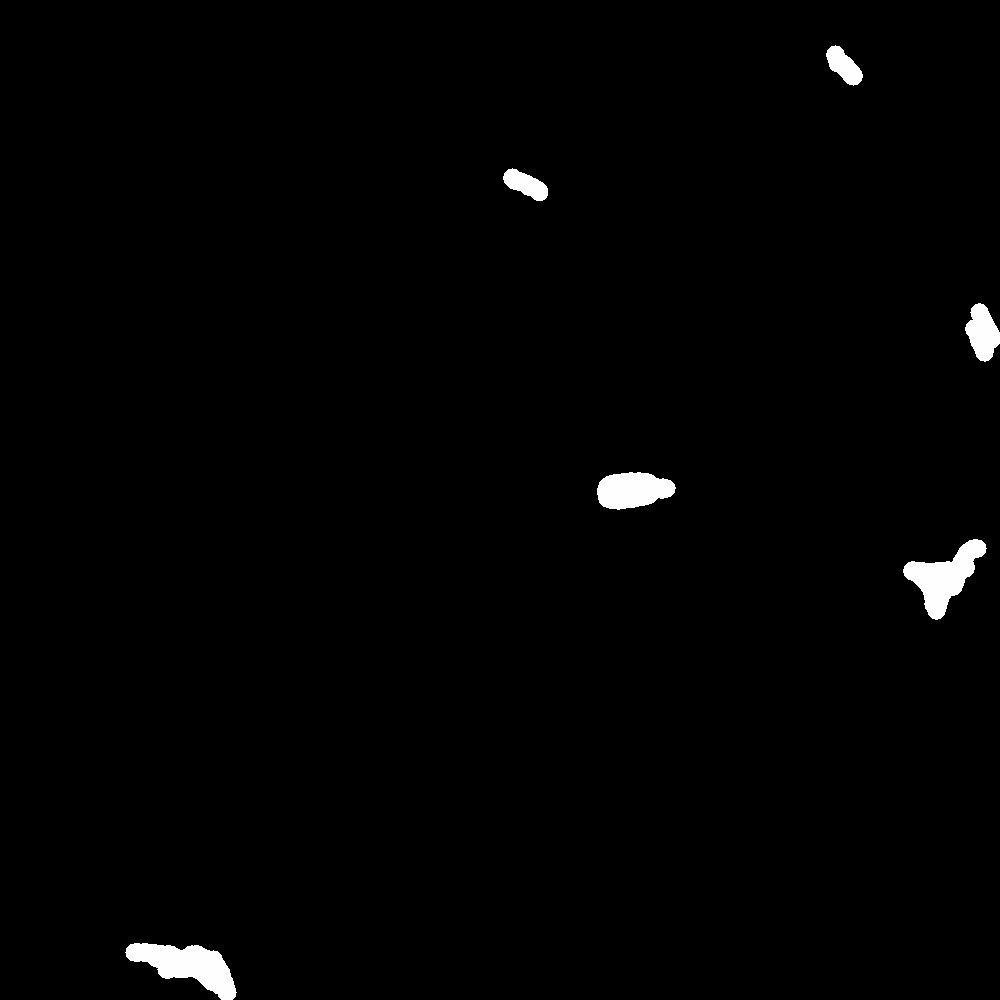illegal: (123, 935, 246, 1000), (556, 459, 693, 515)
